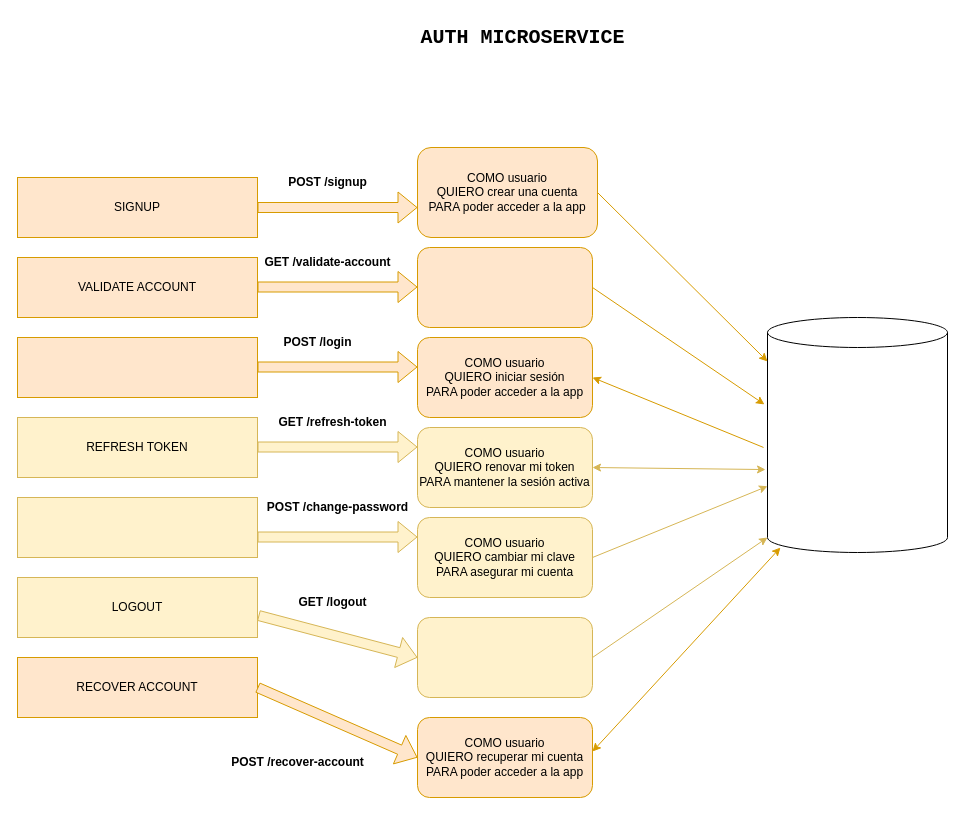
Some shapes in this 965 by 815 pixel diagram are drawn without their labels. Each missing label, with the centre of its shape:
"CHANGE PASSWORD" belongs at point (137, 527).
"COMO usuario QUIERO cerrar sesión PARA asegurar mi cuenta" belongs at point (504, 657).
"COMO usuario QUIERO validar mi cuenta PARA poder acceder a la app" belongs at point (504, 287).
"LOGIN" belongs at point (137, 367).
"users" belongs at point (857, 434).
